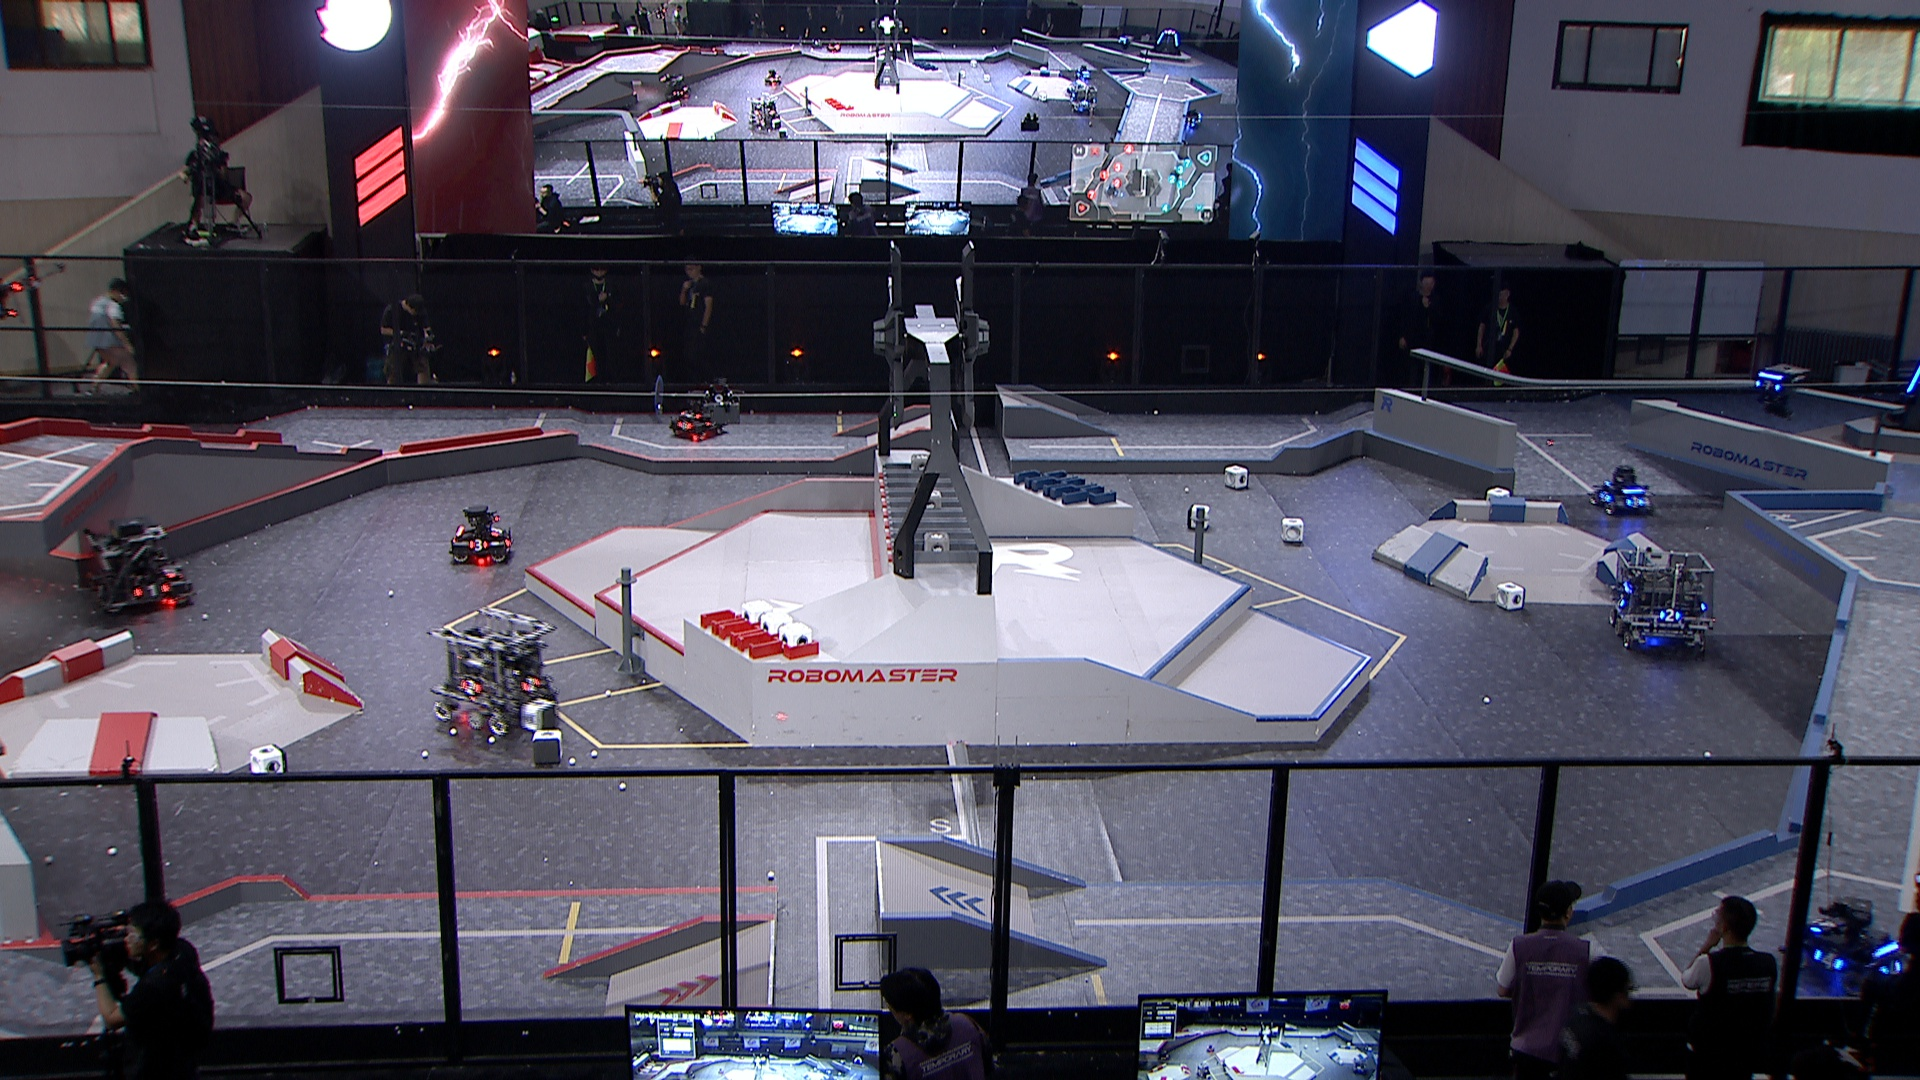armor: (129, 580, 171, 599), (1812, 948, 1845, 969), (1812, 916, 1840, 936), (458, 678, 483, 698), (1878, 957, 1905, 975), (1905, 365, 1920, 396), (1658, 607, 1683, 624), (465, 537, 491, 553), (520, 676, 541, 694), (1755, 380, 1783, 392), (161, 560, 178, 578), (1613, 591, 1629, 608), (679, 407, 703, 418), (673, 419, 694, 431), (1627, 495, 1646, 508), (1596, 491, 1613, 504), (489, 524, 502, 537)
base: (1878, 348, 1920, 438)
car: (425, 608, 558, 733), (1784, 895, 1913, 1000), (1607, 546, 1720, 655), (80, 517, 196, 616), (447, 501, 514, 567), (1588, 463, 1655, 517), (667, 400, 723, 442)
ignore: (750, 98, 785, 131), (1065, 80, 1100, 113), (661, 73, 692, 102), (1149, 30, 1182, 57)
watcher: (1749, 361, 1807, 417)
